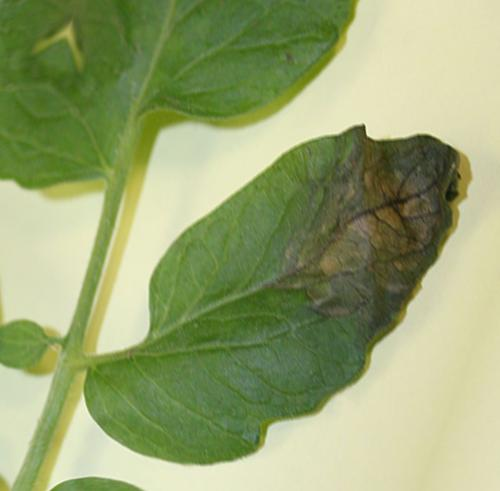Tomato leaf late blight: (54, 26, 500, 491)
